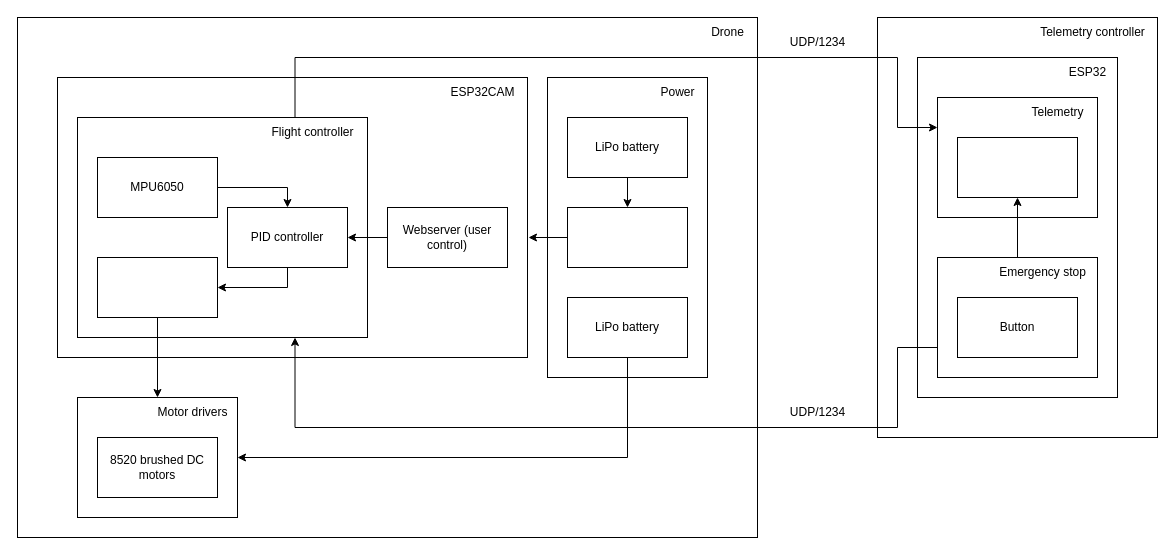
Image size: 1175x555. Some labels were removed from this diagram. Each missing label, with the centre of its shape:
"16x2 LCD" goes at pixel 1017 167.
"Boost converter" goes at pixel 627 237.
"Motor control" goes at pixel 157 287.
